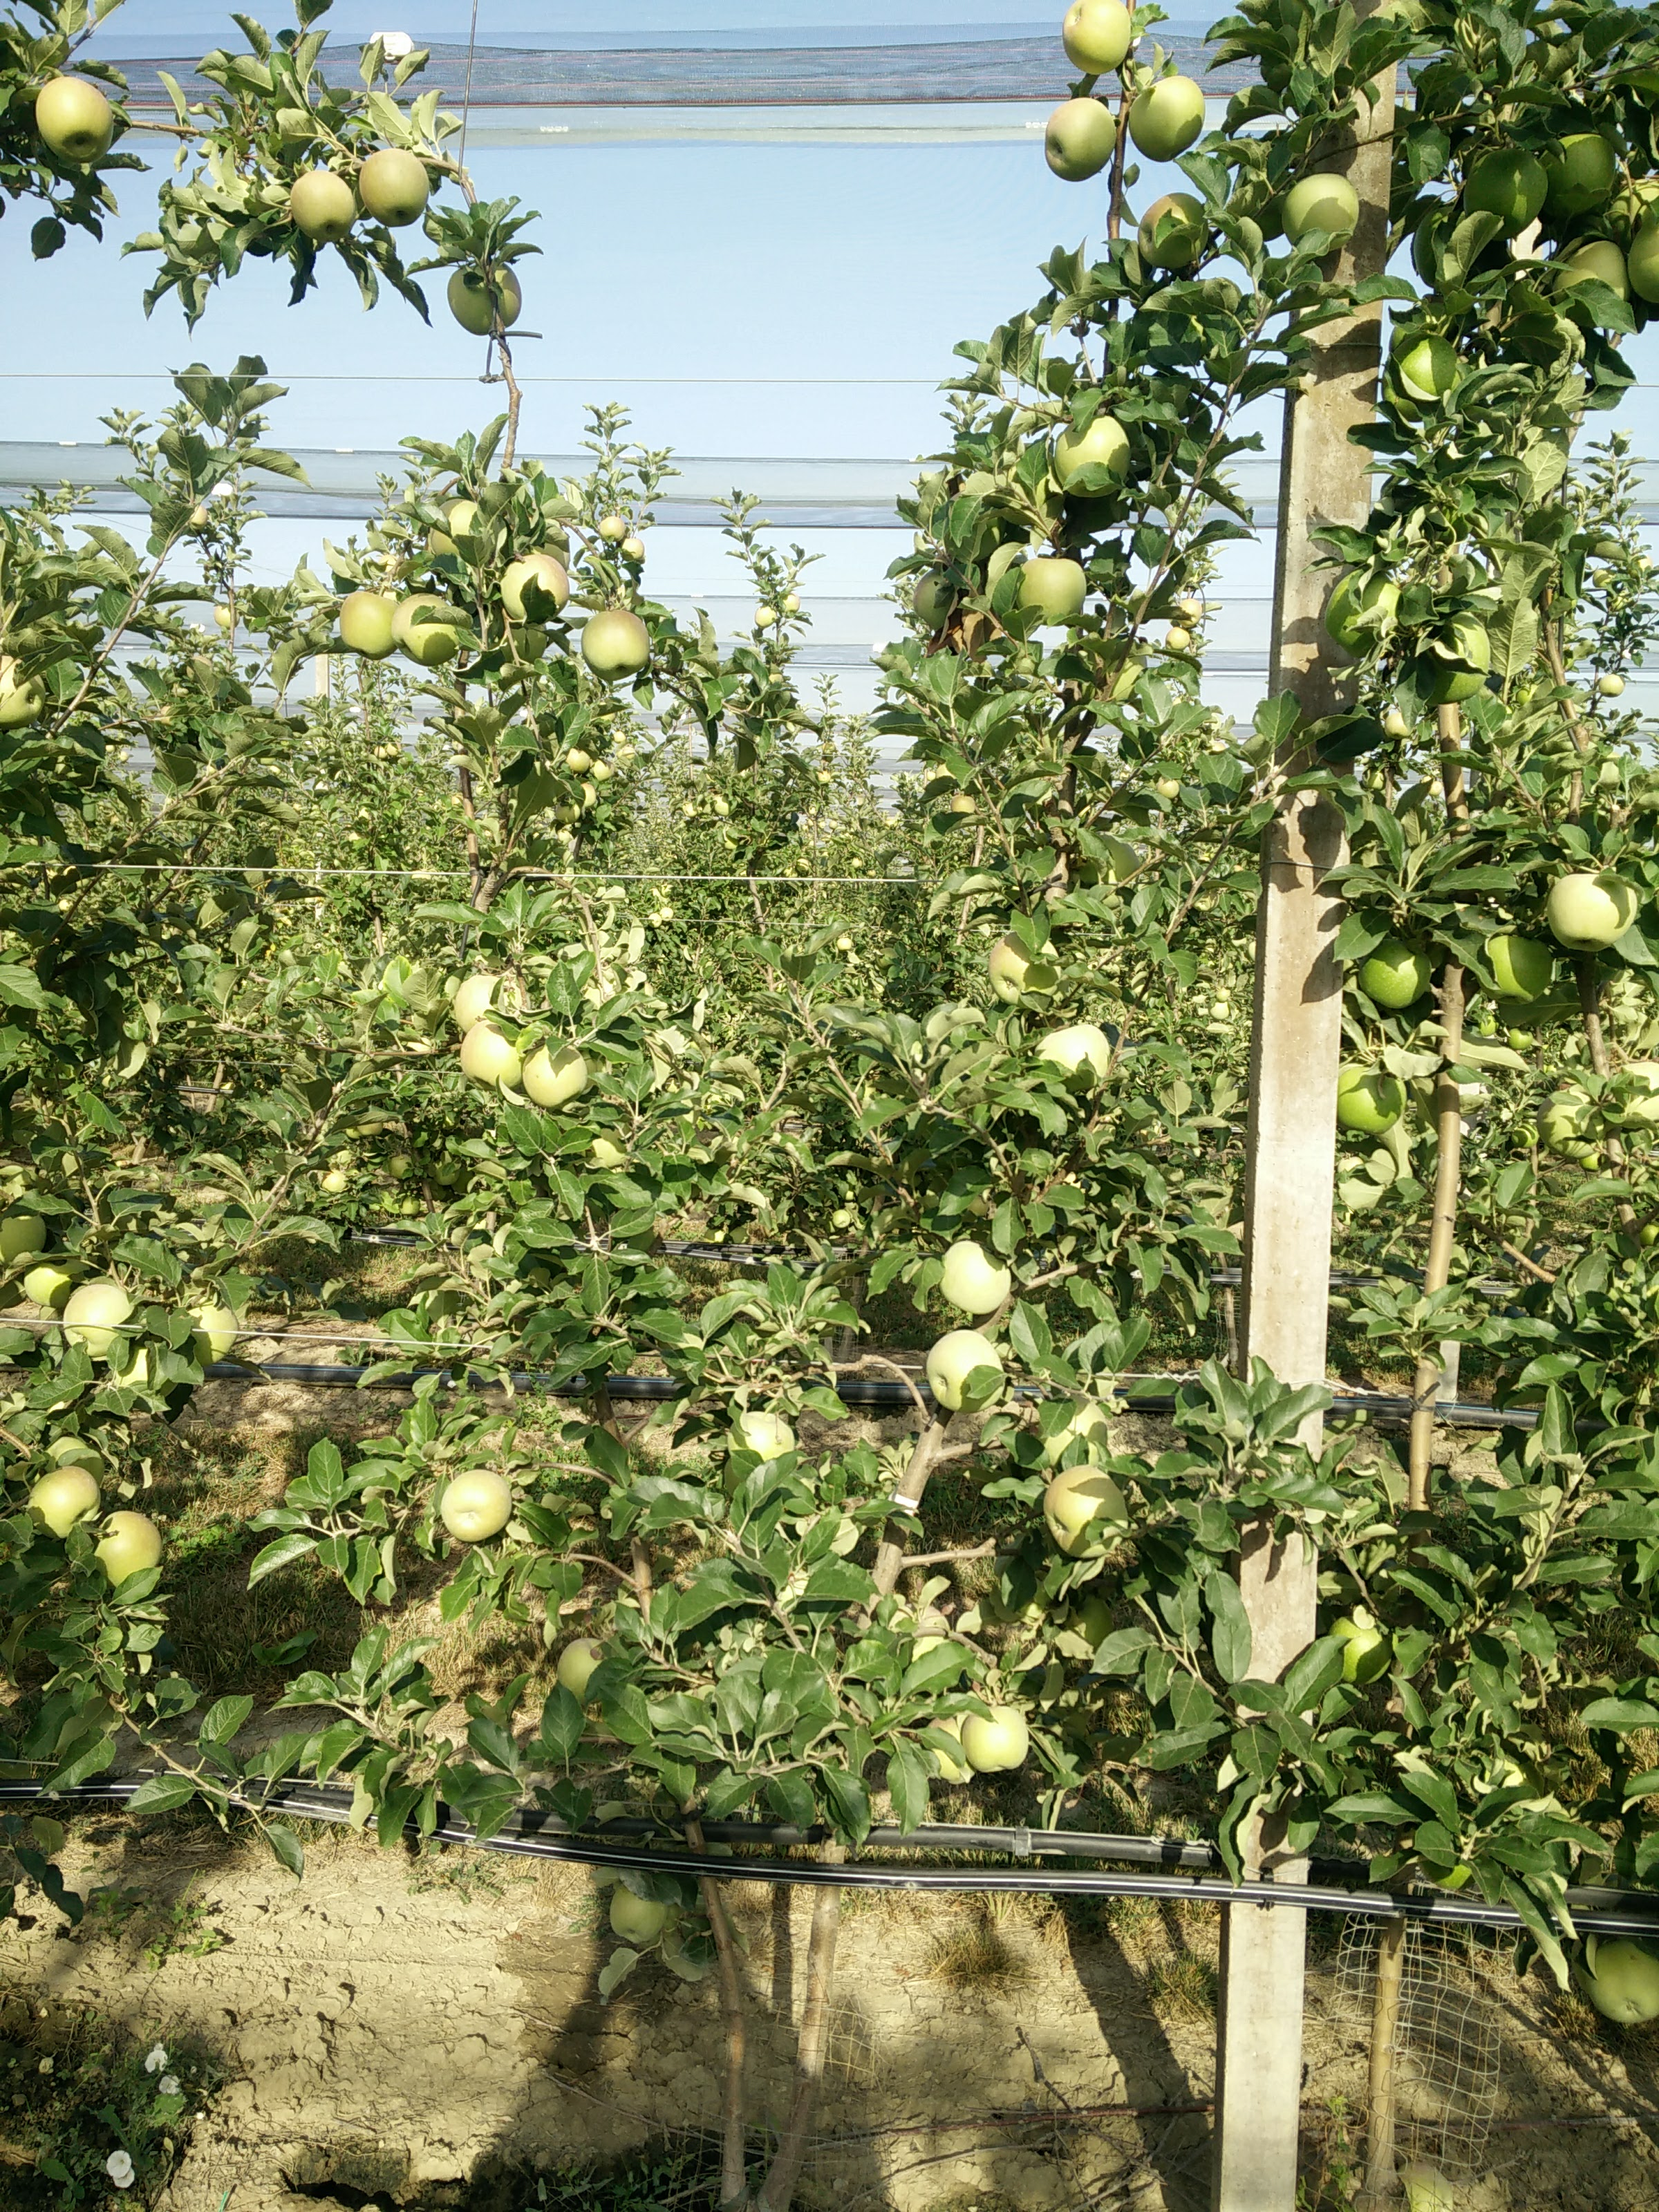apple: (1040, 1461, 1126, 1562), (1046, 409, 1132, 503), (30, 75, 114, 166), (1543, 873, 1635, 953), (1125, 77, 1207, 163), (1461, 147, 1545, 232), (921, 1327, 1003, 1411), (1040, 95, 1117, 185), (1283, 171, 1360, 254), (1060, 1, 1140, 79), (60, 1282, 140, 1360), (355, 146, 430, 228), (1584, 1942, 1659, 2026), (986, 934, 1065, 1011), (1136, 192, 1212, 272), (934, 1239, 1013, 1313), (88, 1512, 161, 1592), (438, 1469, 512, 1545), (1332, 1059, 1405, 1138), (1033, 1024, 1116, 1094), (24, 1465, 95, 1543), (491, 553, 571, 624), (1355, 938, 1434, 1009), (1013, 557, 1087, 631), (579, 608, 654, 682), (391, 592, 465, 666), (1480, 931, 1550, 1009), (447, 263, 521, 335), (285, 174, 362, 241), (456, 1020, 529, 1088), (517, 1042, 590, 1109), (960, 1704, 1029, 1772), (335, 589, 401, 659), (603, 1885, 669, 1947), (450, 974, 517, 1035), (551, 1637, 610, 1707), (179, 1306, 239, 1365)
